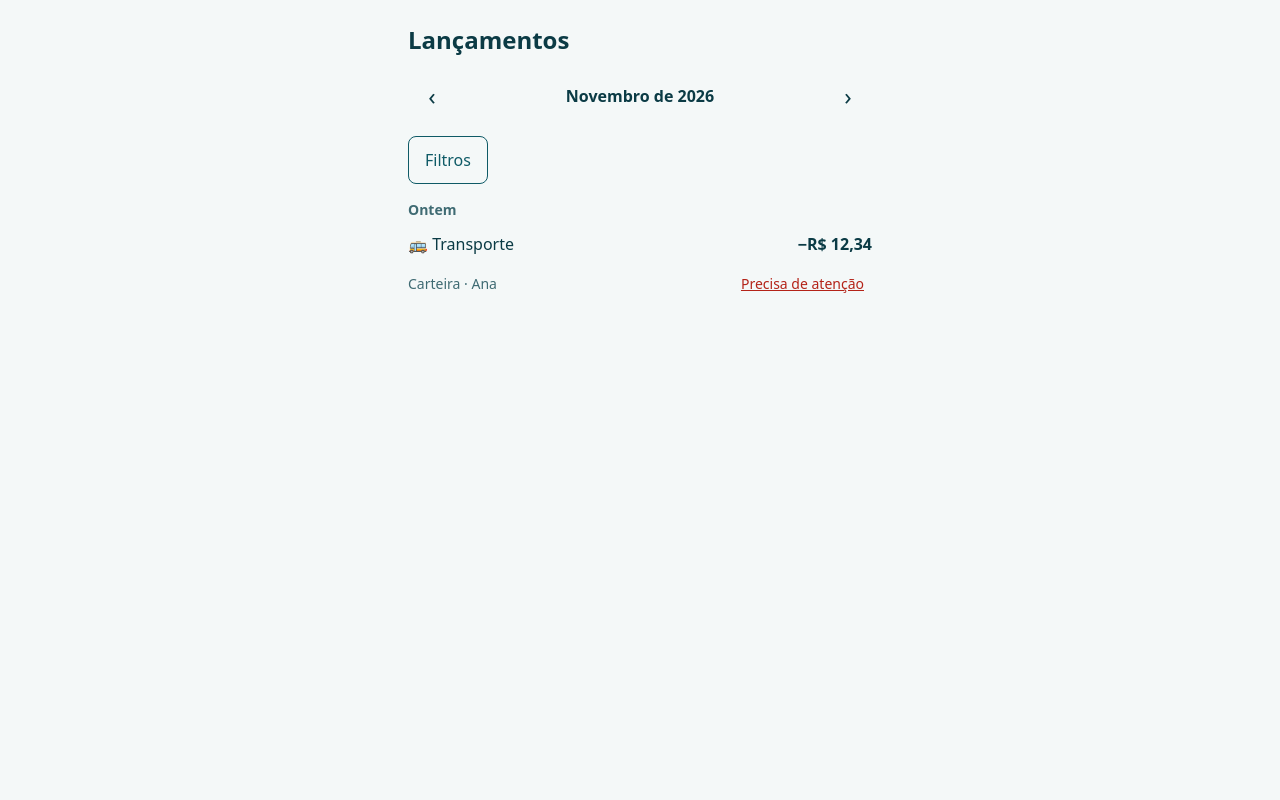
Test case: TransactionsPage › says something went wrong when discarding fails
Step 1. Click the button "Precisa de atenção" → (802, 284), box [733,260,872,308]
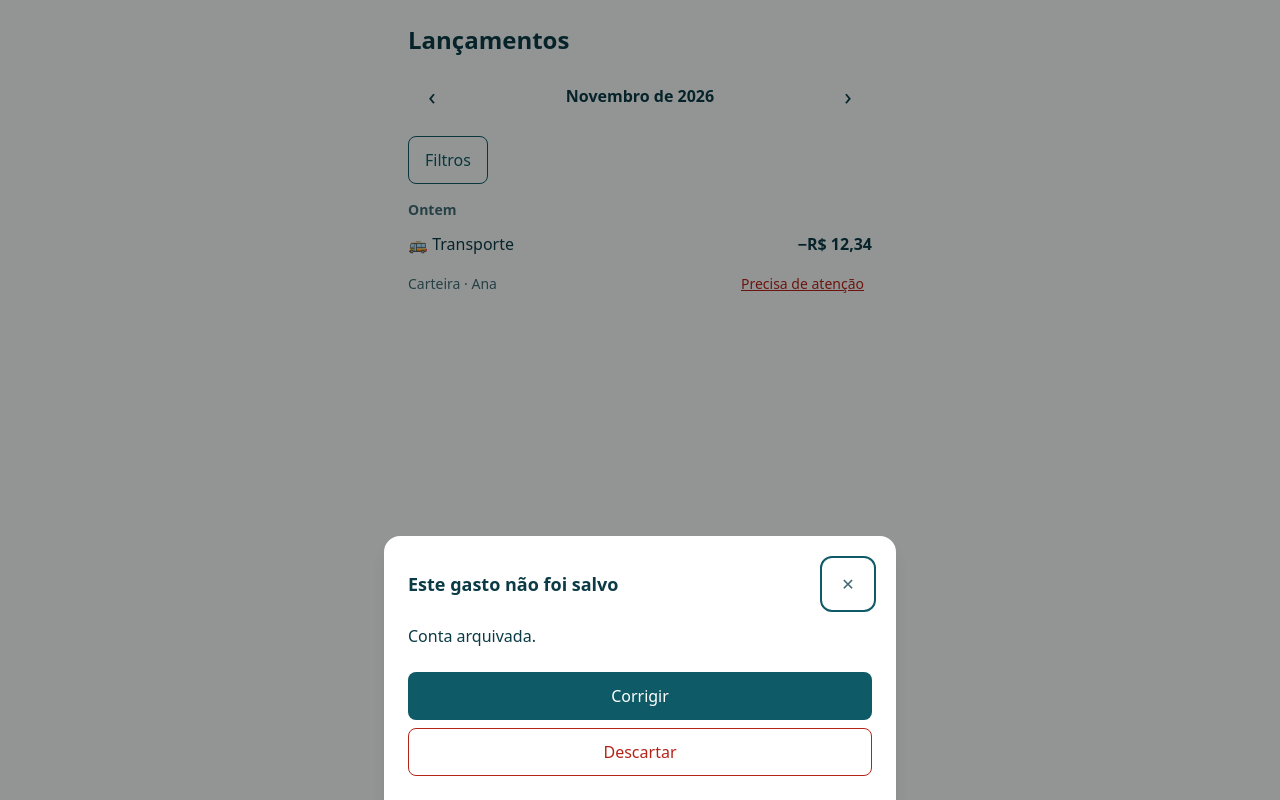
Step 2. Click the button "Descartar" → (640, 752), box [408,728,872,776]
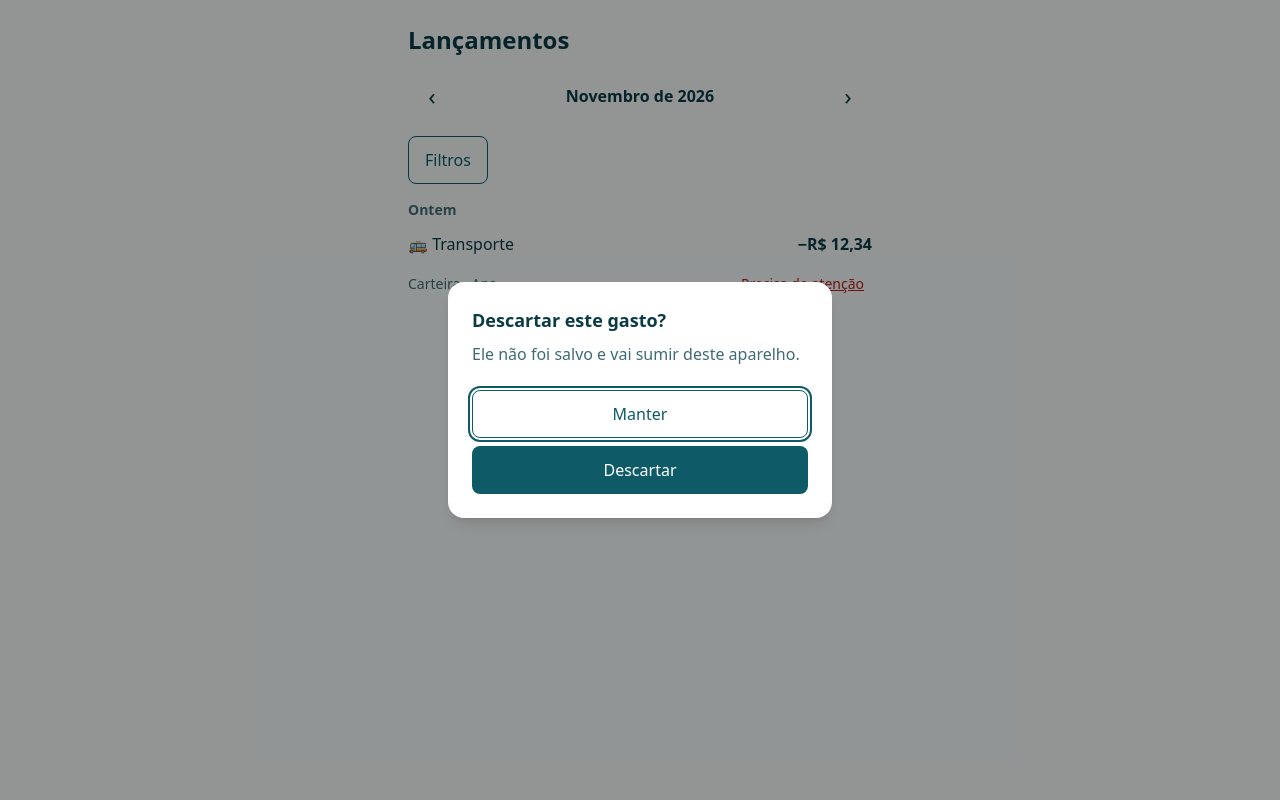
Step 3. Click the button "Descartar" → (640, 470), box [472,446,808,494]
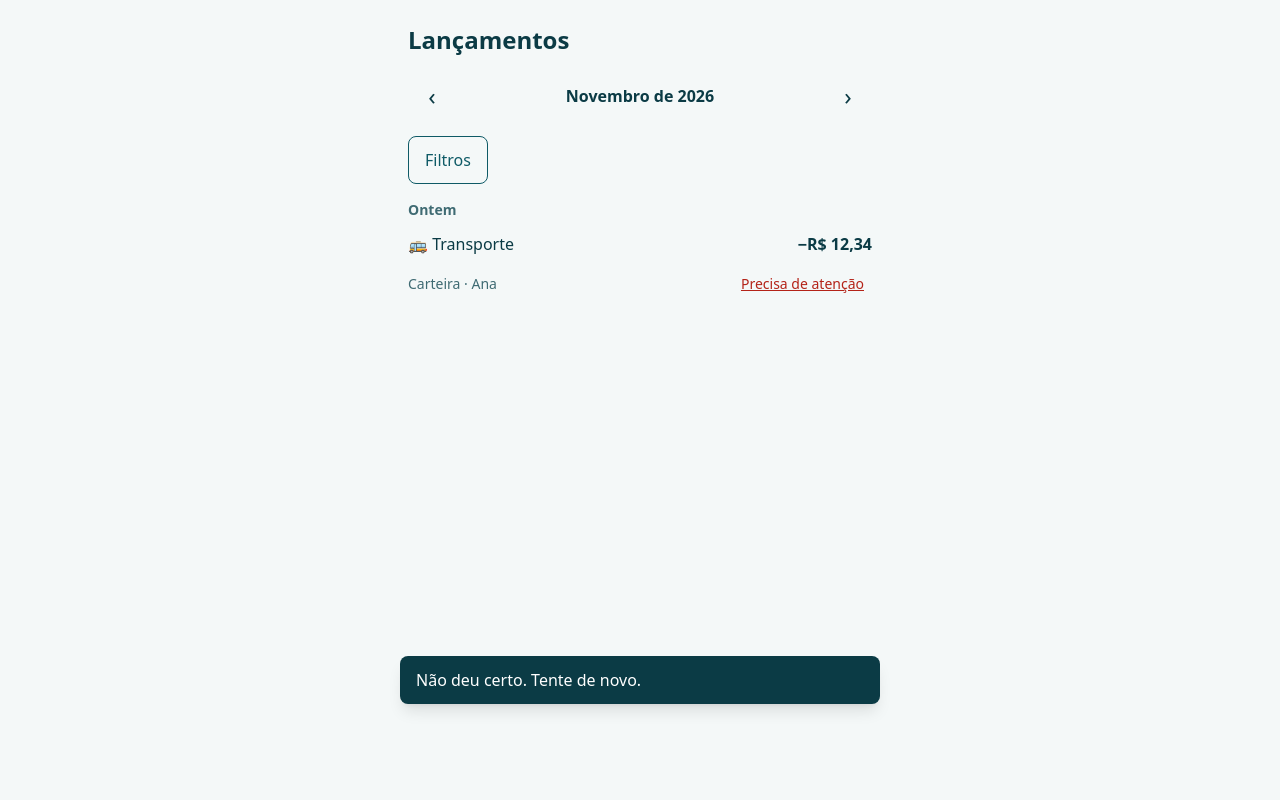
Check: the text "Não deu certo. Tente de novo." is shown, box [416,668,641,692]
